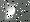person: (6, 5, 17, 21)
